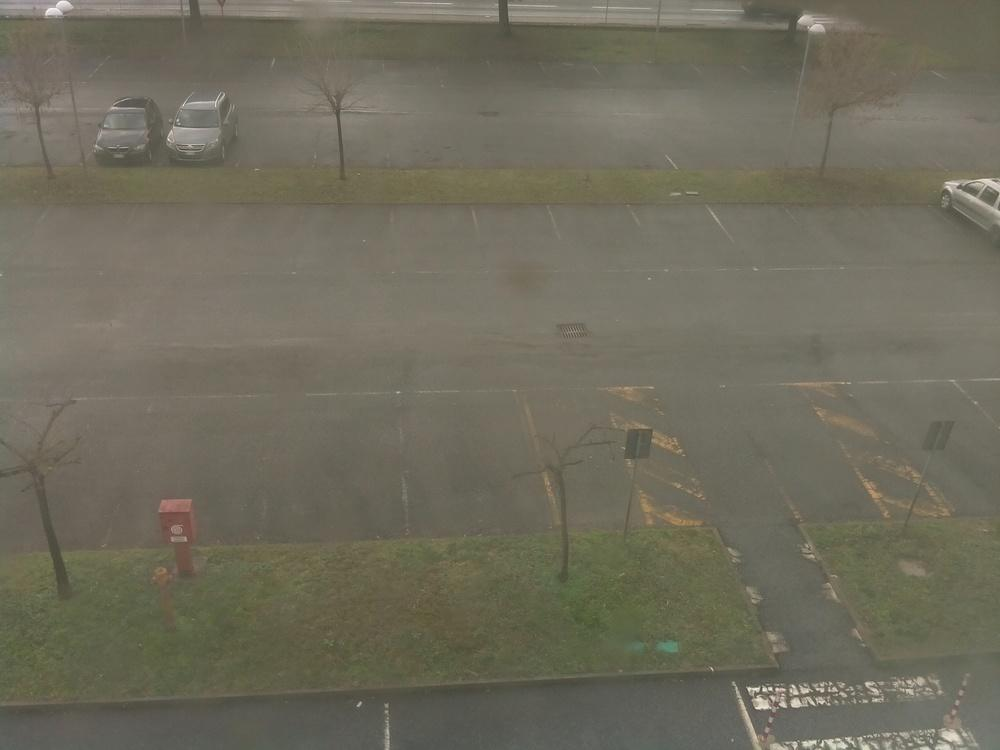empty: (937, 164, 1000, 256), (157, 96, 240, 165), (86, 102, 168, 168)
occupied: (396, 382, 548, 540), (130, 392, 272, 556), (272, 389, 404, 547), (6, 394, 123, 562), (893, 379, 1000, 520), (134, 193, 227, 268), (28, 203, 134, 267), (377, 196, 490, 256), (381, 107, 470, 176), (660, 118, 749, 176), (247, 109, 341, 162), (2, 115, 84, 170), (590, 52, 669, 108), (486, 50, 558, 111), (332, 100, 392, 172), (540, 50, 609, 112), (611, 119, 676, 177), (34, 49, 114, 88), (692, 57, 756, 103), (272, 53, 332, 100), (484, 205, 552, 245), (559, 207, 632, 240), (726, 209, 793, 240), (644, 207, 706, 238)
